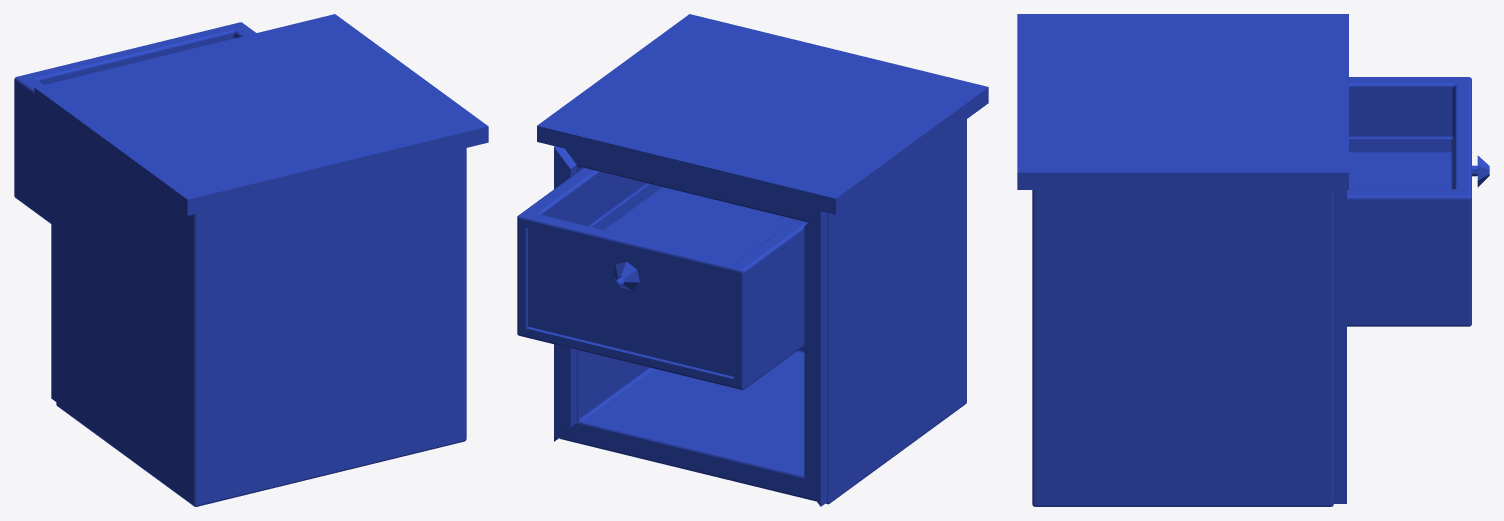
File: MSH_table_de_nuit.fbx
The picture shows the model from 3 angles, left to right: view 1: azimuth 30°, elevation 25°; view 2: azimuth 150°, elevation 25°; view 3: azimuth 270°, elevation 25°; orthographic projection. The views are drawn at different scales.
Parts seen in each view (by area): view 1: table_de_nuit_low; view 2: table_de_nuit_low; view 3: table_de_nuit_low.
Boxes of the visible parts, left/top/right/bottom form: table_de_nuit_low: left=14, top=14, right=488, bottom=506; table_de_nuit_low: left=517, top=14, right=988, bottom=506; table_de_nuit_low: left=1017, top=14, right=1489, bottom=506.
Size of the model in its own units: 72.05 by 72.58 by 90.71.
